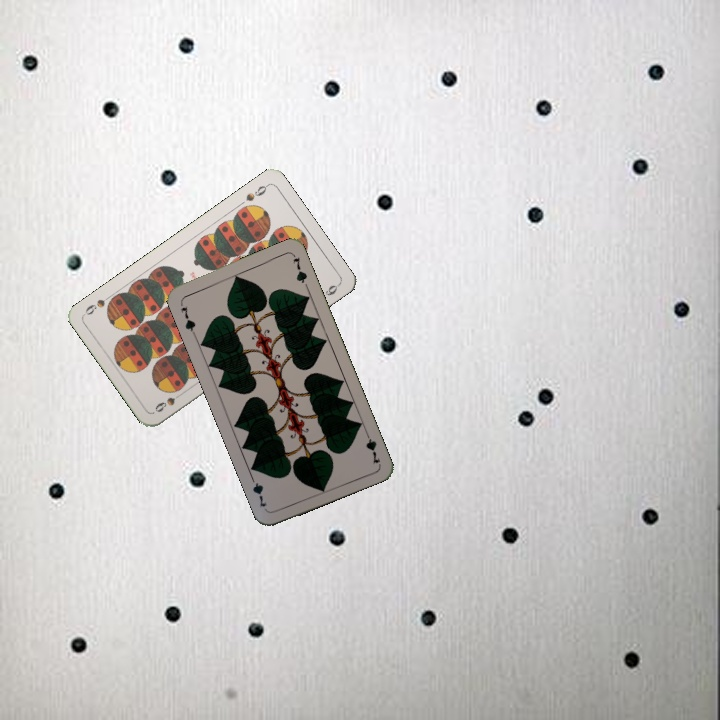G7: (361, 427, 383, 467), (177, 302, 198, 337)
S9: (151, 387, 186, 415), (242, 180, 271, 204)
